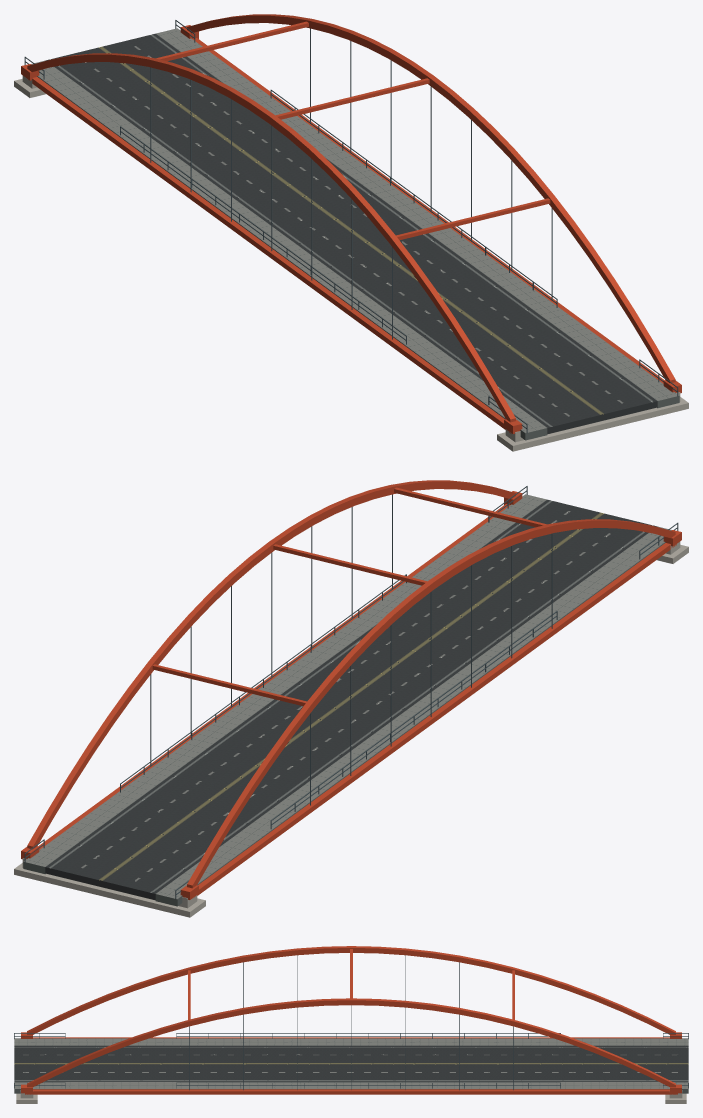
Rendered from north_arch.glb.
The picture shows the model from 3 angles, top to bottom: view 1: azimuth 30°, elevation 25°; view 2: azimuth 150°, elevation 25°; view 3: azimuth 270°, elevation 25°; orthographic projection. The views are drawn at different scales.
Visible parts, largest first — view 1: RoadDeck, Walkways, Arches, TieBeams, Guardrails, Hangers, Supports; view 2: RoadDeck, Walkways, Arches, TieBeams, Guardrails, Hangers, Supports; view 3: RoadDeck, Walkways, Arches, TieBeams, Guardrails, Hangers, Supports.
Boxes of the visible parts, x1,y1,x2,y2 form: RoadDeck: (45, 33, 657, 434); Walkways: (31, 28, 679, 440); Arches: (27, 14, 675, 422); TieBeams: (21, 25, 681, 433); Guardrails: (24, 20, 678, 433); Hangers: (150, 28, 552, 339); Supports: (14, 75, 688, 451); RoadDeck: (45, 499, 657, 900); Walkways: (23, 494, 671, 906); Arches: (27, 480, 675, 888); TieBeams: (21, 491, 681, 899); Guardrails: (24, 486, 678, 899); Hangers: (150, 494, 552, 805); Supports: (14, 541, 688, 917); RoadDeck: (14, 1045, 688, 1081); Walkways: (14, 1038, 688, 1093); Arches: (27, 946, 675, 1087); TieBeams: (21, 1032, 681, 1094); Guardrails: (14, 1033, 688, 1088); Hangers: (189, 955, 513, 1090); Supports: (16, 1090, 686, 1103).
Bounding box in the file's own units: 32 × 26.35 × 158.
Materials: 5 (2 with a texture image).
